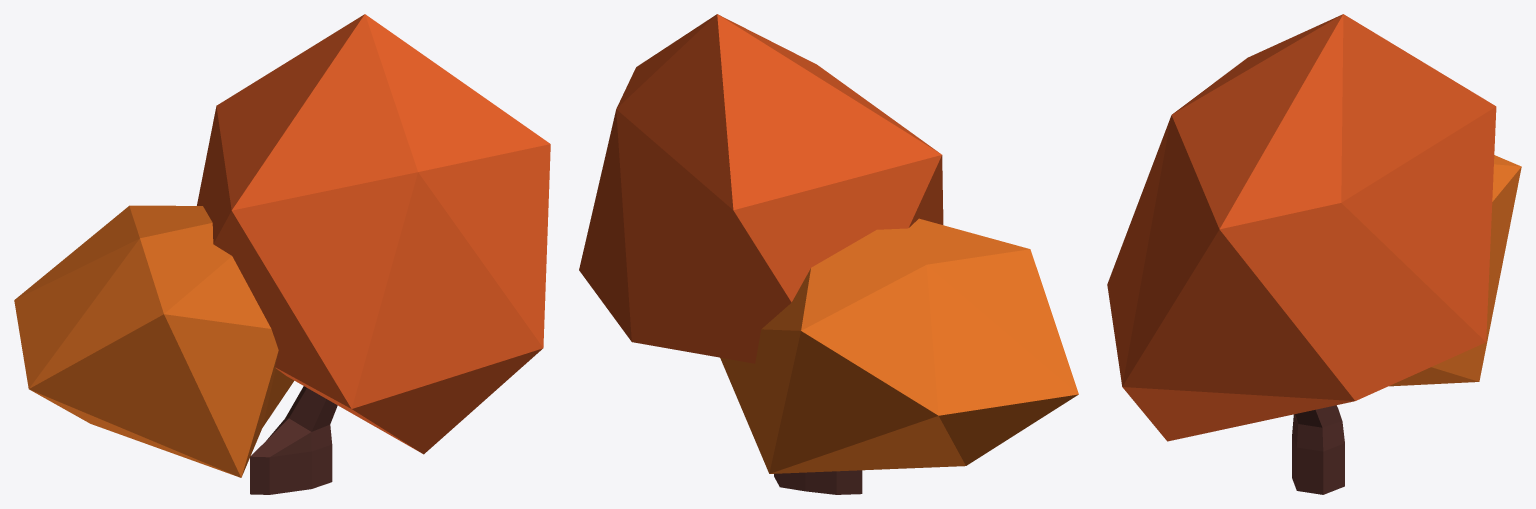
The model's file is bush_2.fbx.
3 views of the same model, side by side, from view 1: azimuth 30°, elevation 25°; view 2: azimuth 150°, elevation 25°; view 3: azimuth 270°, elevation 25° (orthographic). The views are drawn at different scales.
Parts seen in each view (by area): view 1: bush_2; view 2: bush_2; view 3: bush_2.
Part boxes in pixels (<box>): bush_2: <box>14,14,550,494</box>; bush_2: <box>579,14,1078,494</box>; bush_2: <box>1107,14,1521,494</box>.
Size of the model in its own units: 329 by 292 by 216.
